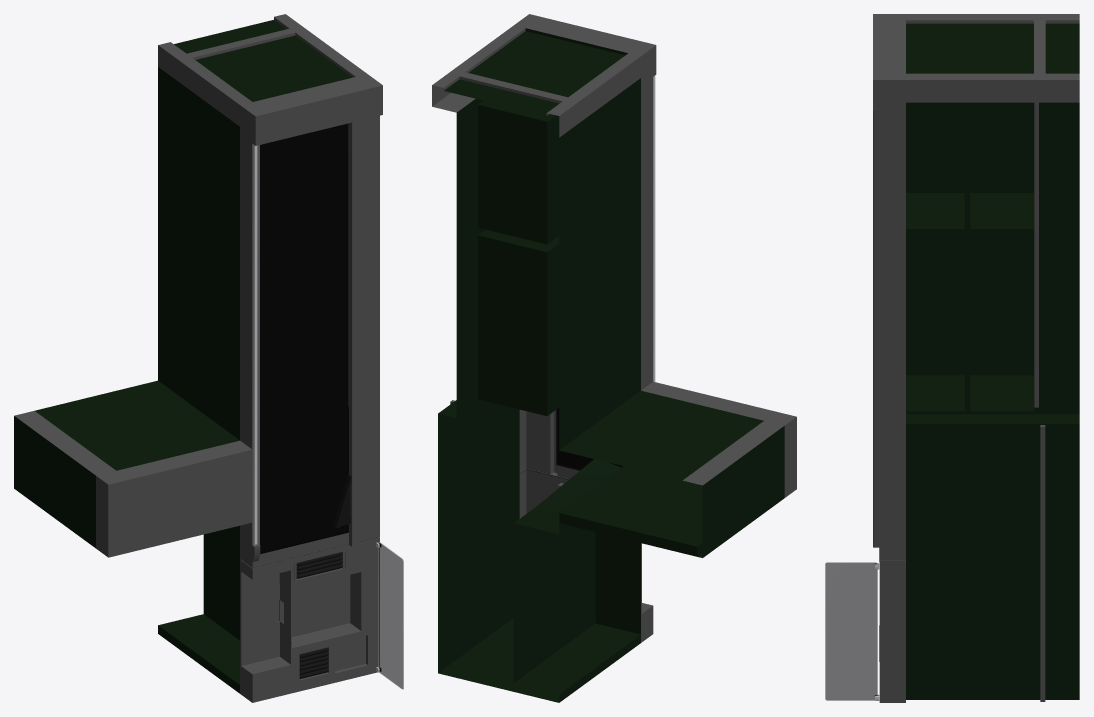
The model's file is Checkout.obj.
3 renders of one model, left to right at view 1: azimuth 30°, elevation 25°; view 2: azimuth 150°, elevation 25°; view 3: azimuth 270°, elevation 25°, orthographic. The views are drawn at different scales.
Visible parts, largest first — view 1: Checkout; view 2: Checkout; view 3: Checkout.
Boxes of the visible parts, <box> form: Checkout: <box>14,14,403,702</box>; Checkout: <box>432,14,796,702</box>; Checkout: <box>825,14,1079,702</box>.
Size of the model in its own units: 1.39 by 2.89 by 1.07.
6 materials, 1 textured.
